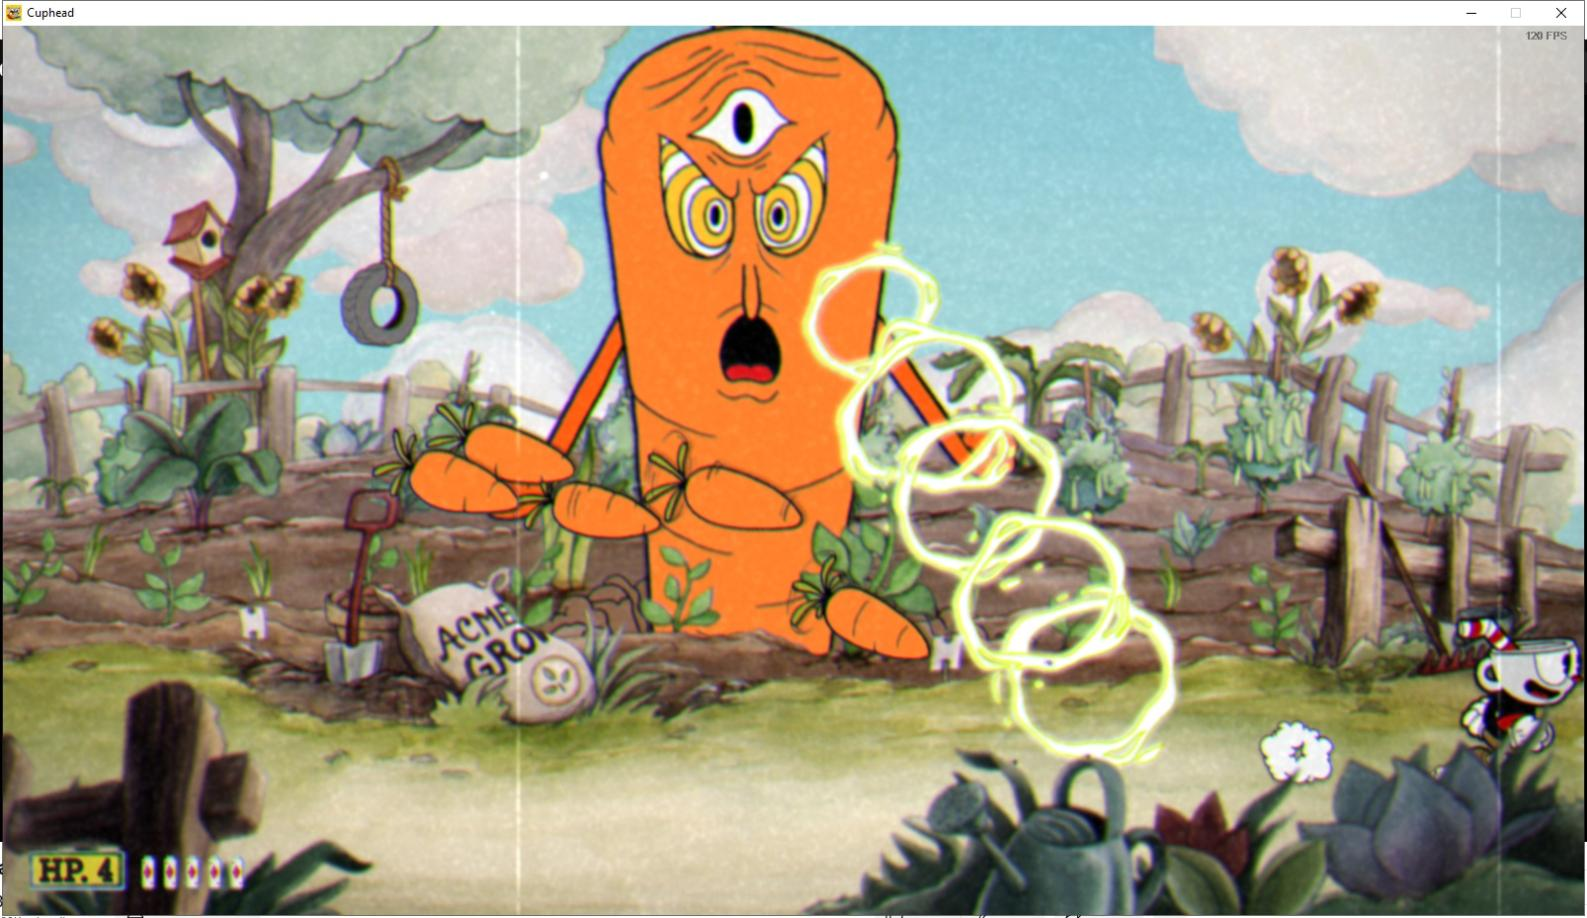carrot: (786, 550, 939, 672), (642, 436, 812, 544), (366, 424, 523, 524), (428, 396, 580, 489), (515, 462, 667, 550)
hp4: (92, 852, 124, 890)
player: (1425, 602, 1587, 796)
ring: (835, 312, 1022, 505), (950, 503, 1140, 683), (996, 589, 1184, 770), (888, 408, 1067, 590), (793, 236, 952, 396)
